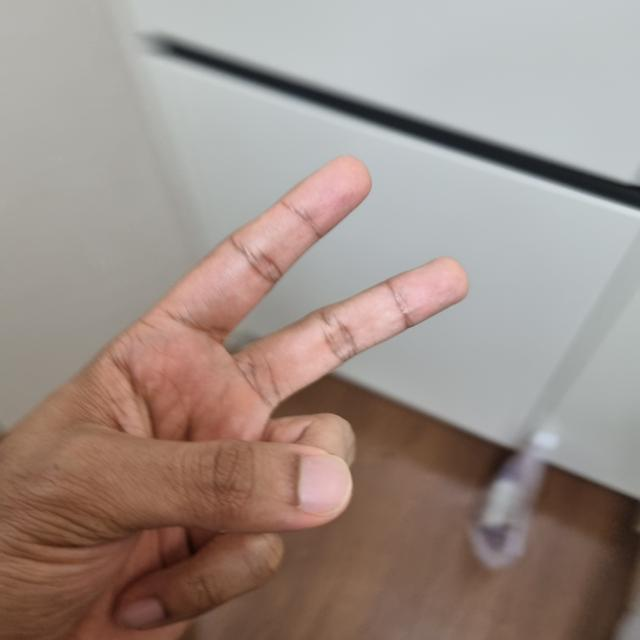Scissors: (0, 163, 460, 640)
